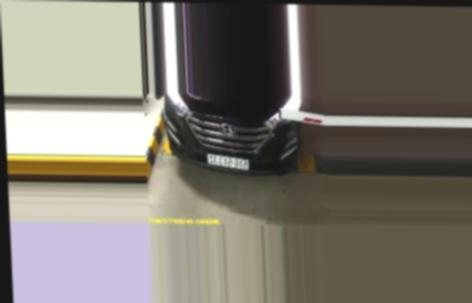License_Plate: (207, 154, 250, 172)
